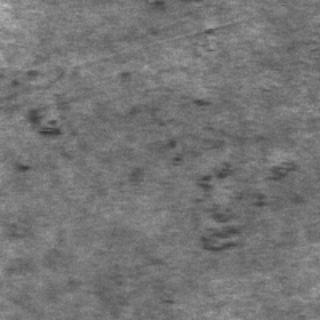rolled pit: (162, 136, 300, 254), (0, 62, 72, 178)
